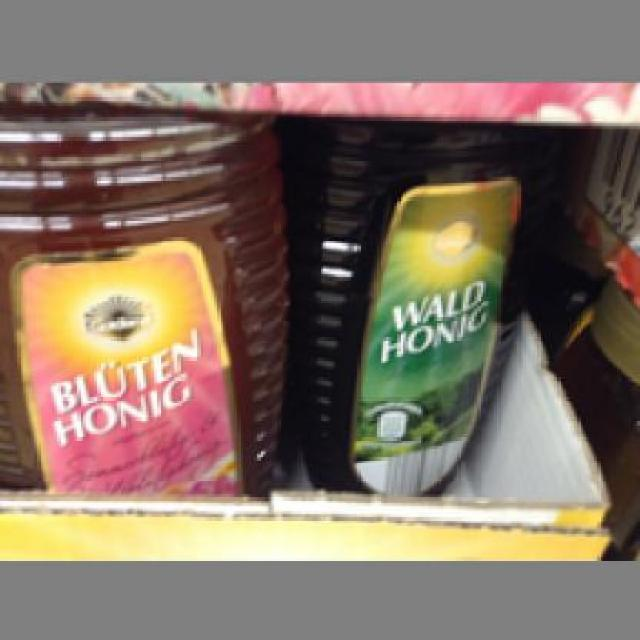Honey: (0, 114, 295, 503), (312, 112, 538, 494)
